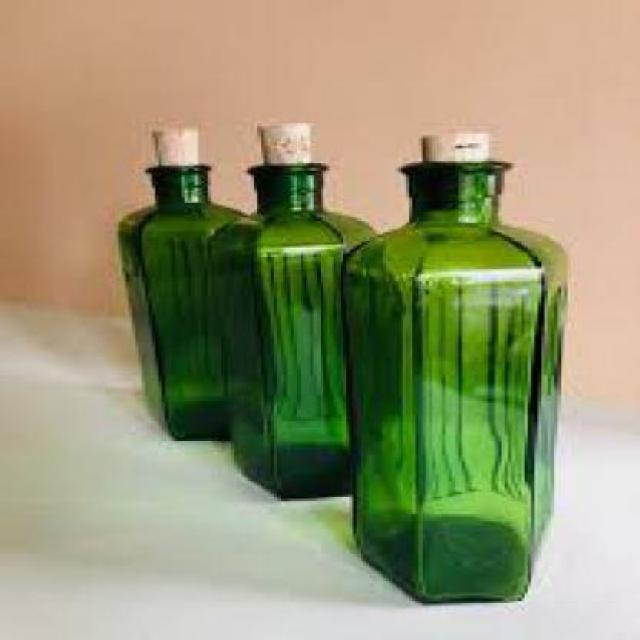kaca: (337, 155, 561, 600), (205, 166, 372, 500), (112, 163, 248, 440)
